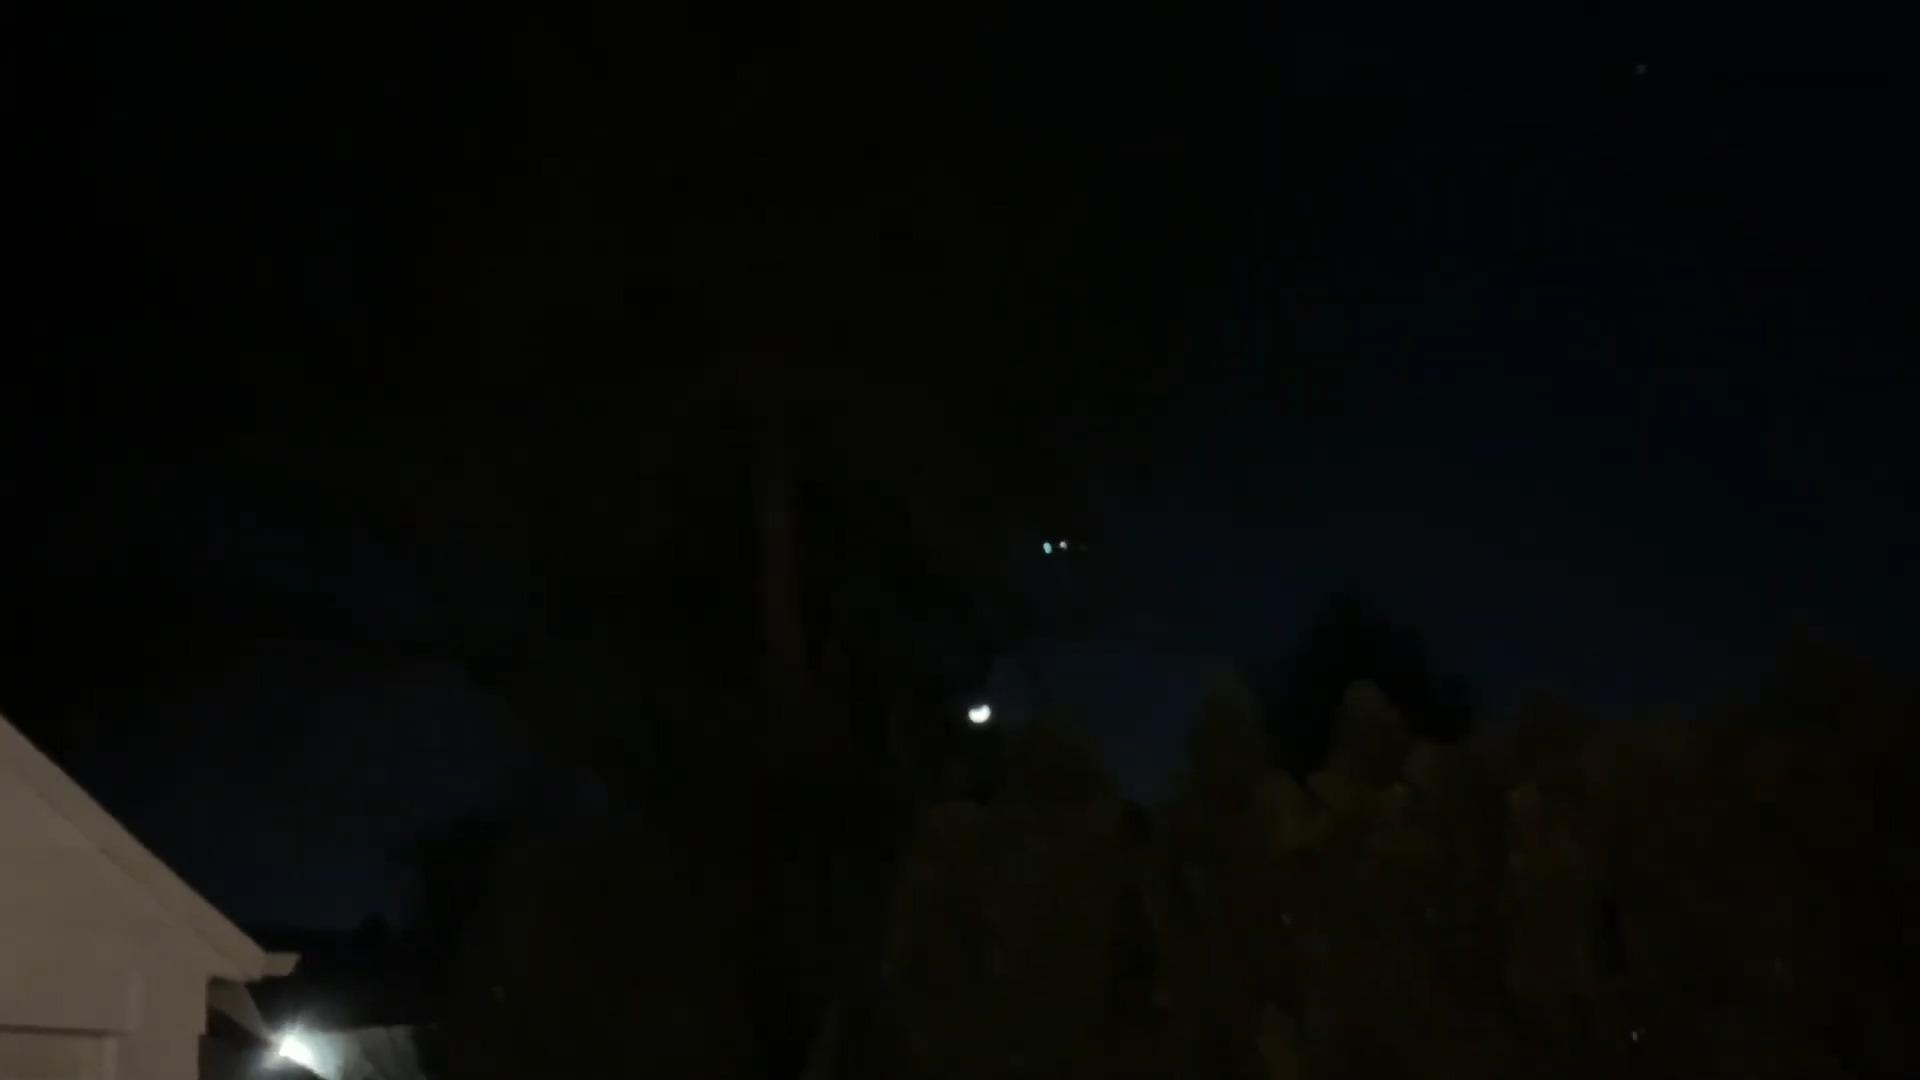Plane: (1029, 524, 1106, 567)
